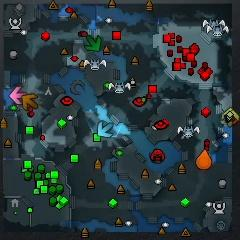p5: (196, 150, 211, 170)
x1: (10, 86, 26, 105)
x2: (222, 108, 239, 127)
x3: (97, 120, 113, 137)
x4: (85, 35, 102, 52)
x5: (22, 94, 38, 111)
